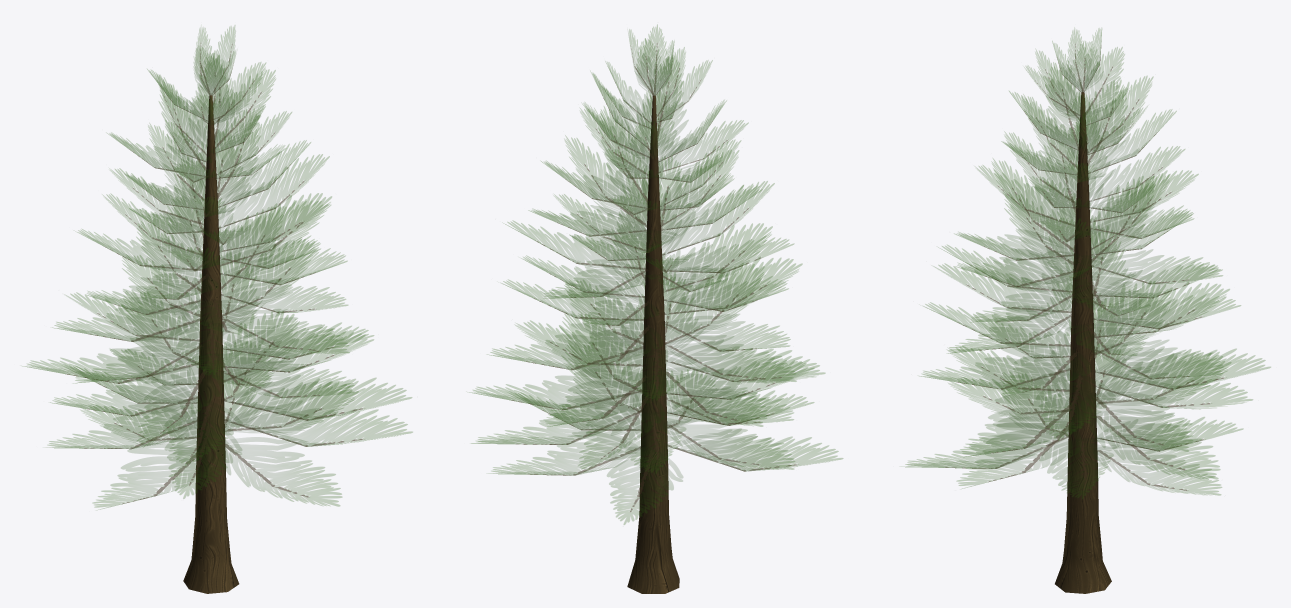
Rendered from tree.glb.
The picture shows the model from 3 angles, left to right: view 1: azimuth 30°, elevation 25°; view 2: azimuth 150°, elevation 25°; view 3: azimuth 270°, elevation 25°; orthographic projection.
Visible parts, largest first — view 1: Tree01_LOD0; view 2: Tree01_LOD0; view 3: Tree01_LOD0.
Part boxes in pixels (x1,y1,x2,y2): Tree01_LOD0: (25, 26, 412, 593); Tree01_LOD0: (469, 24, 842, 593); Tree01_LOD0: (905, 28, 1270, 593).
Size of what is drawn, in the model's own units: 5.12 by 7.72 by 4.93.
Materials: 2 (2 with a texture image).
